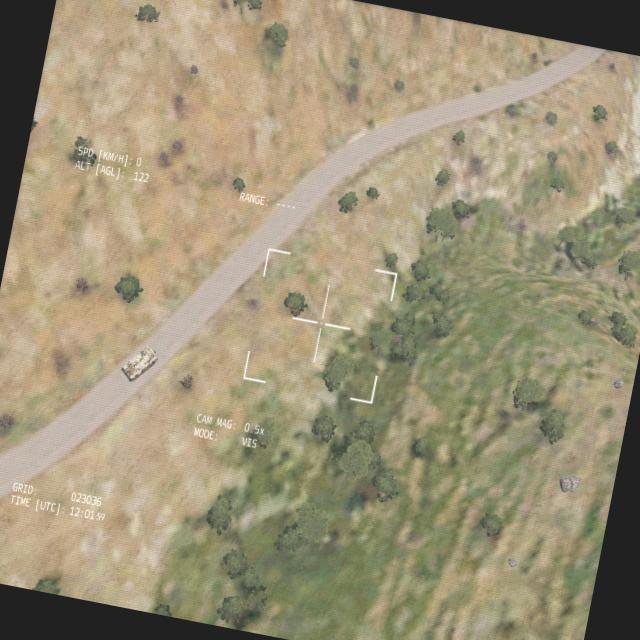tank: (110, 339, 160, 392)
